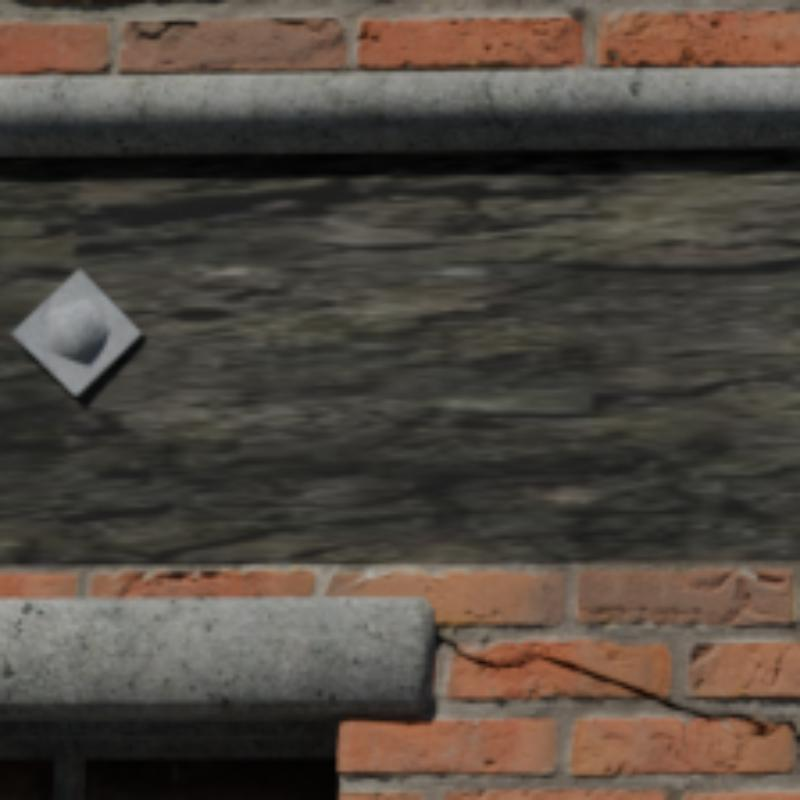pothole: (530, 654, 739, 718), (439, 636, 511, 664), (754, 718, 796, 739)
